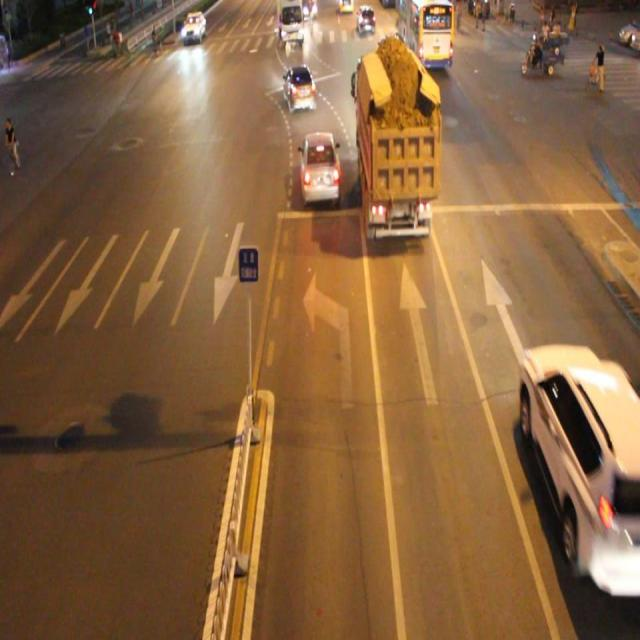bus: (355, 58, 436, 239)
car: (520, 344, 640, 598), (300, 130, 340, 204), (283, 64, 317, 114)
